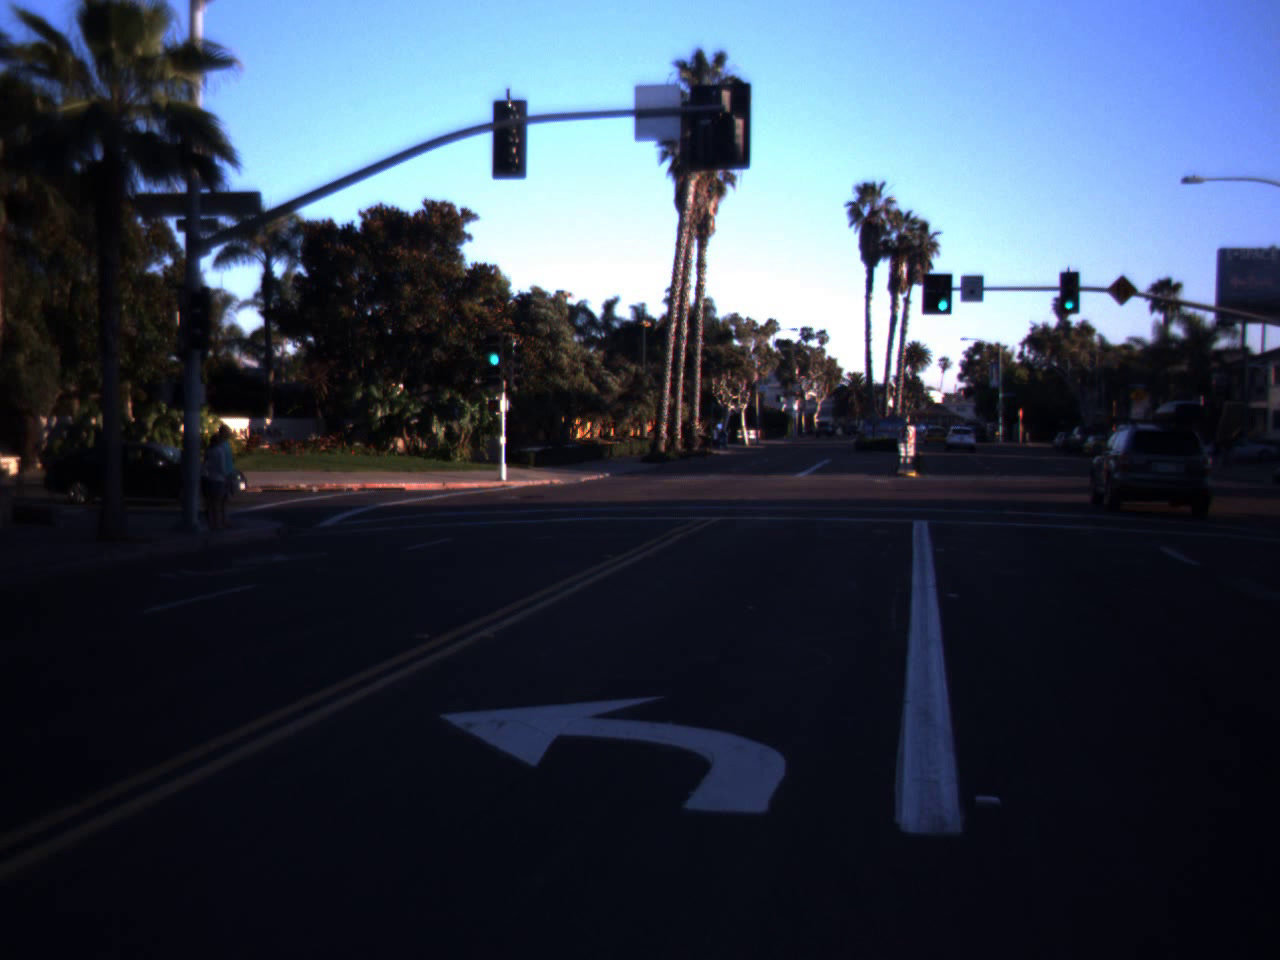go: (482, 320, 506, 370), (931, 274, 955, 314), (1060, 285, 1078, 310)
